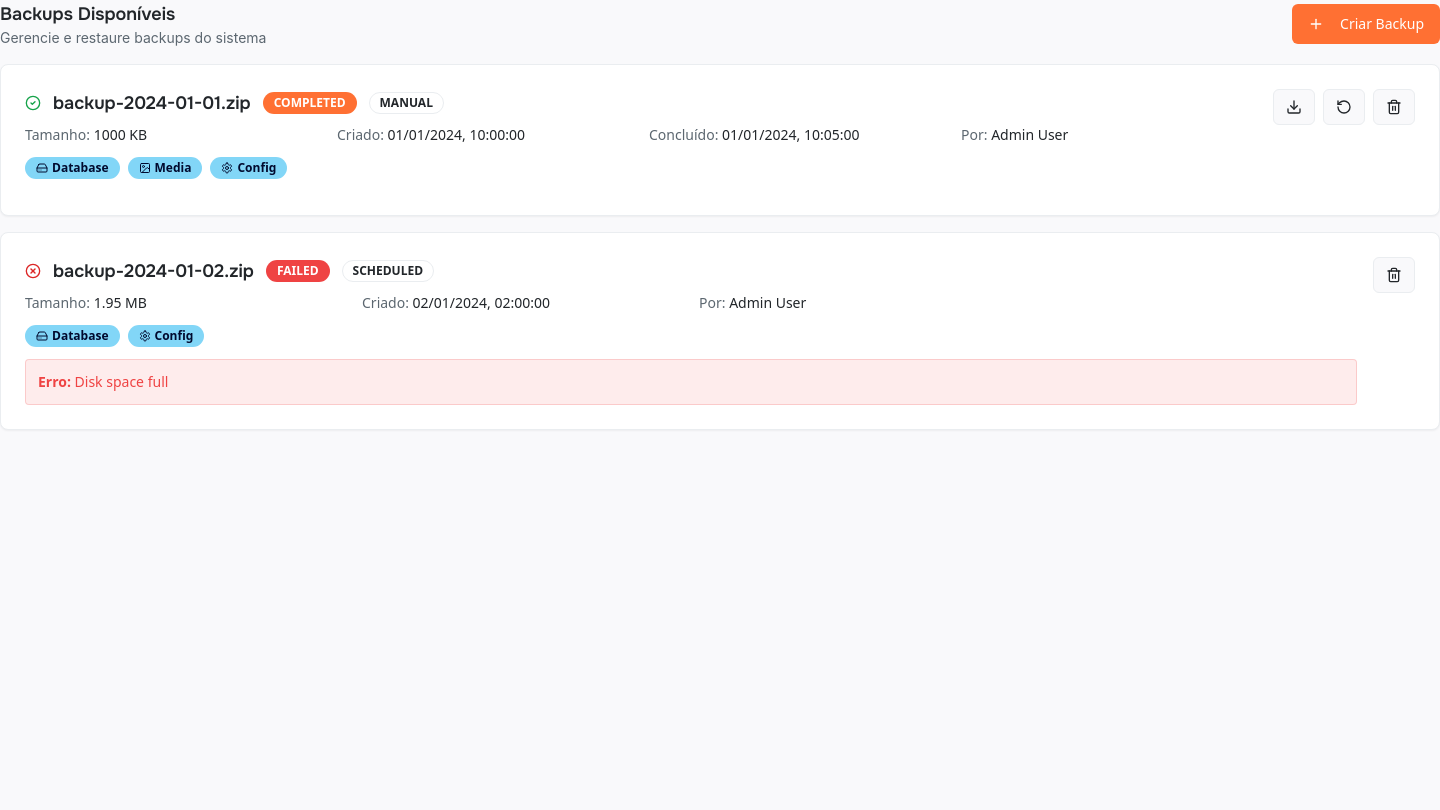
BackupsList › Delete Backup › should delete backup successfully
Click the 4th button.
click(1394, 107)  # box 1373,89 -> 1415,125
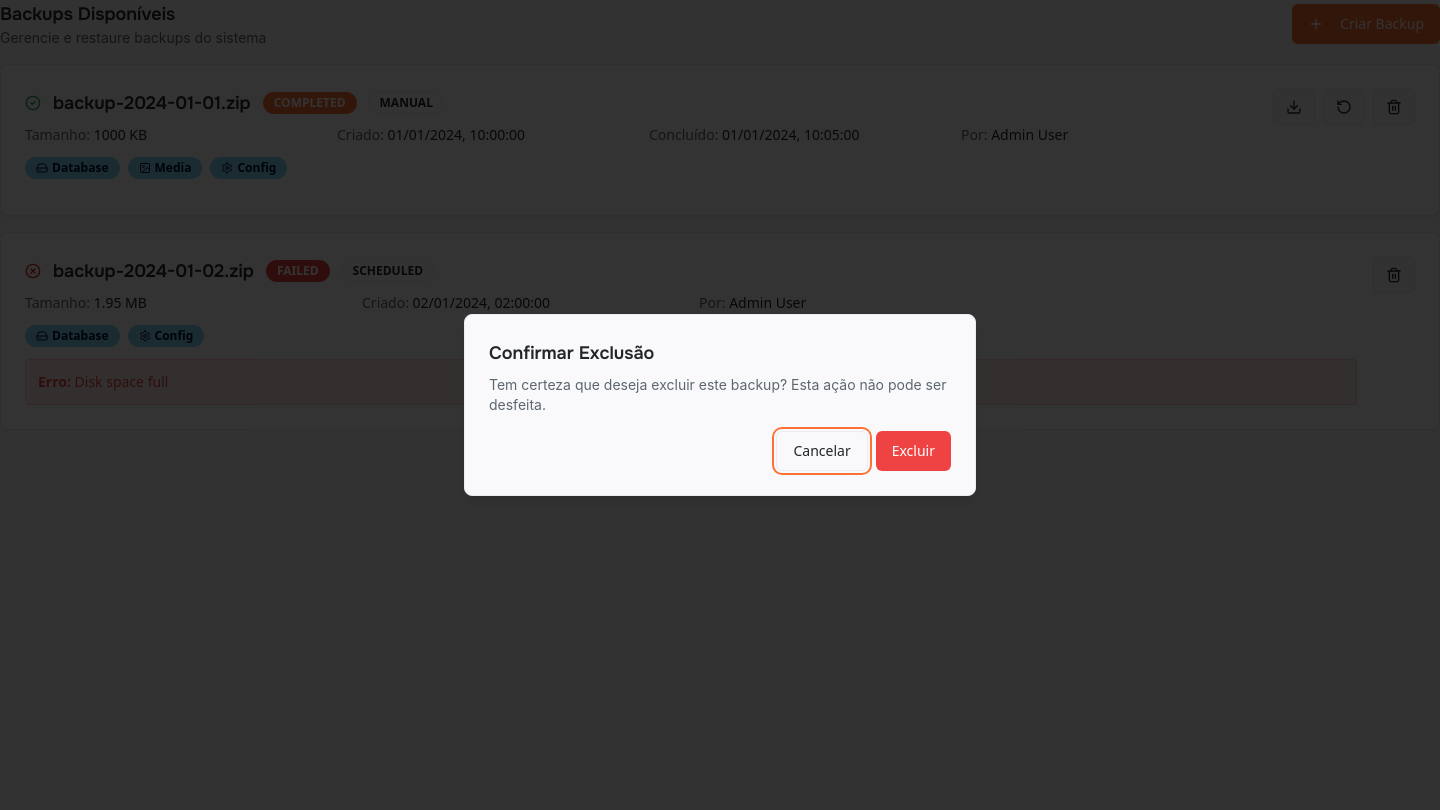
Click the button "Excluir".
click(913, 451)  # box 876,431 -> 951,471
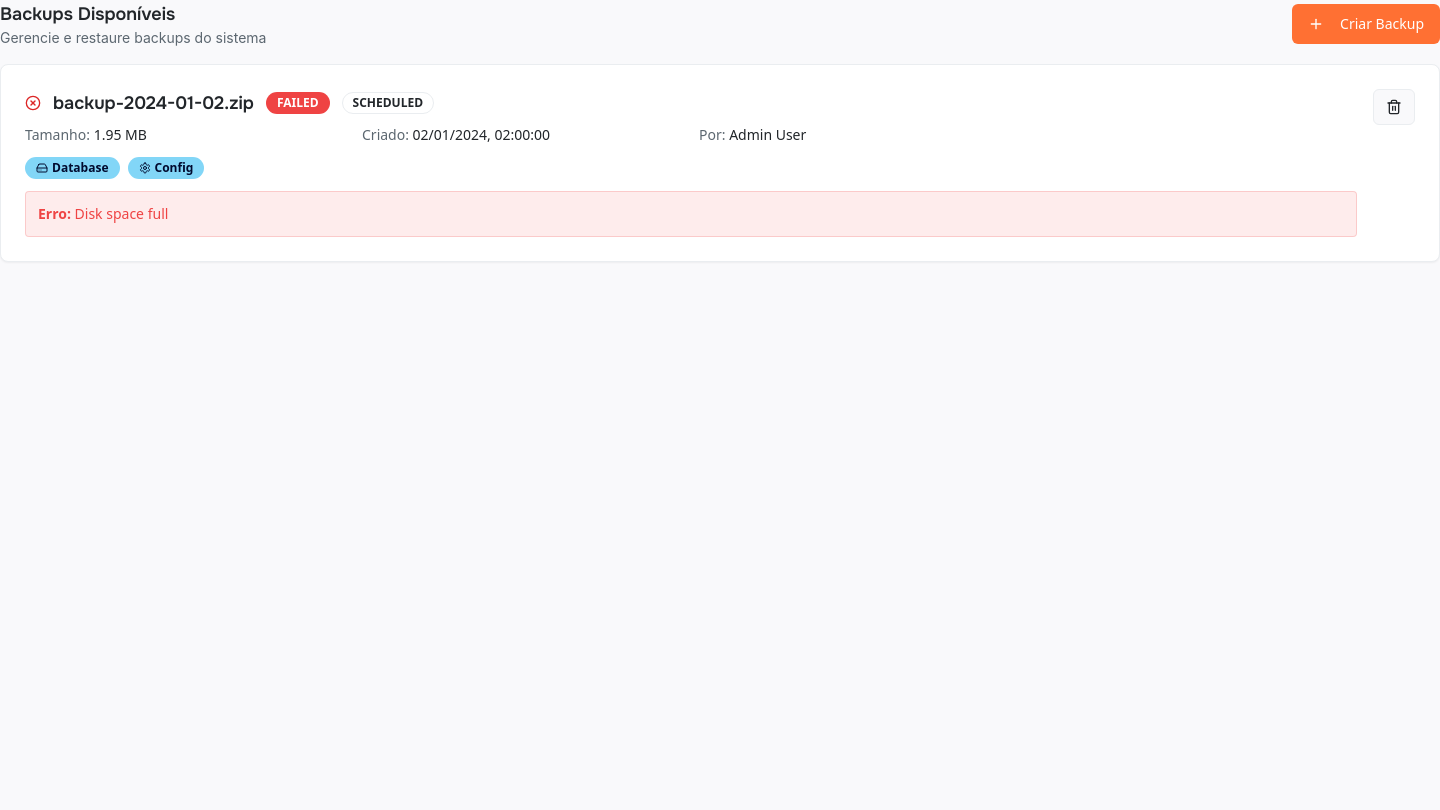
Check: the heading "backup-2024-01-01.zip" is gone
